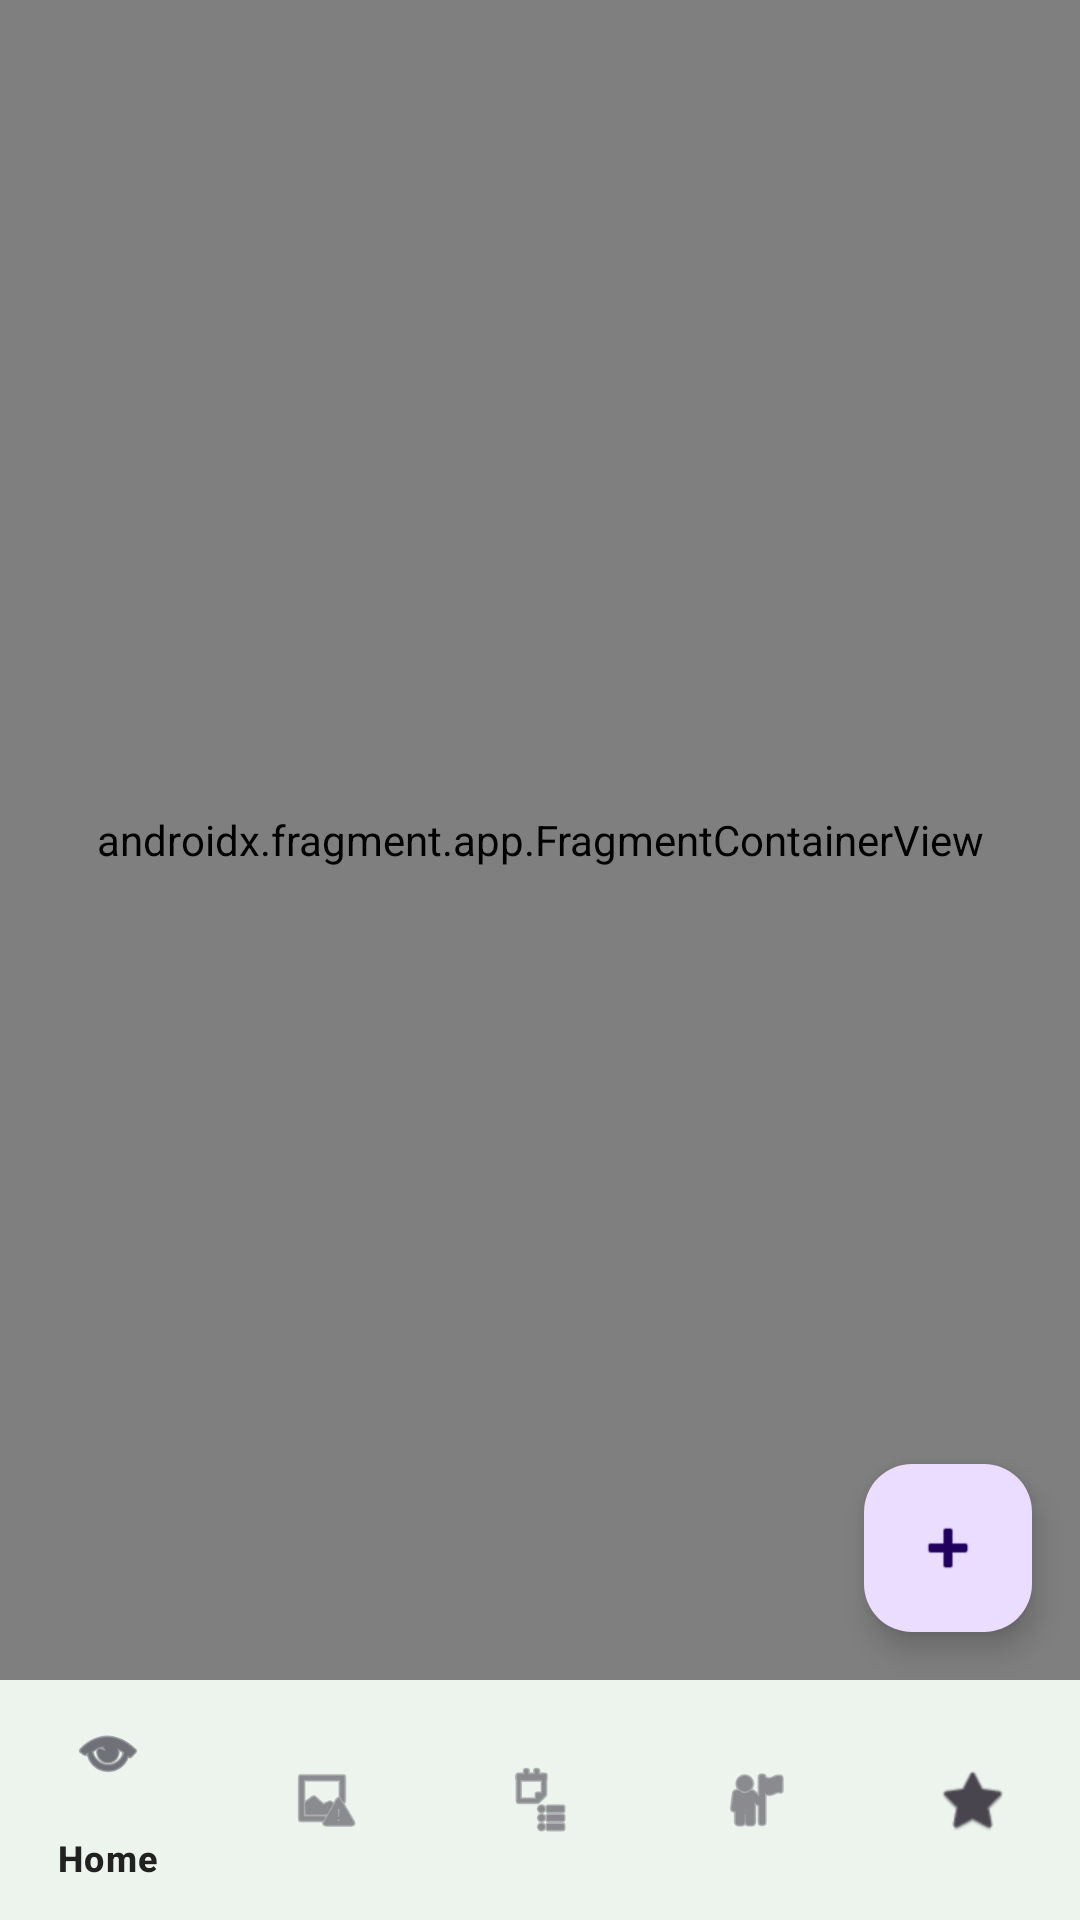

Icons on this 1080px x 1920px Android screen, each with its box as (x1, y1, x2, y2):
Add Expense: (864, 1464, 1032, 1632)
